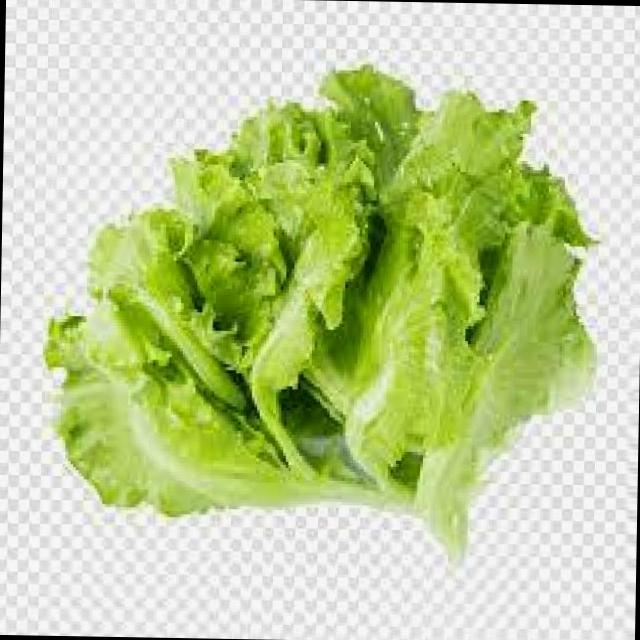Lettuce-Ready-to-Harvest: (46, 66, 592, 558)
